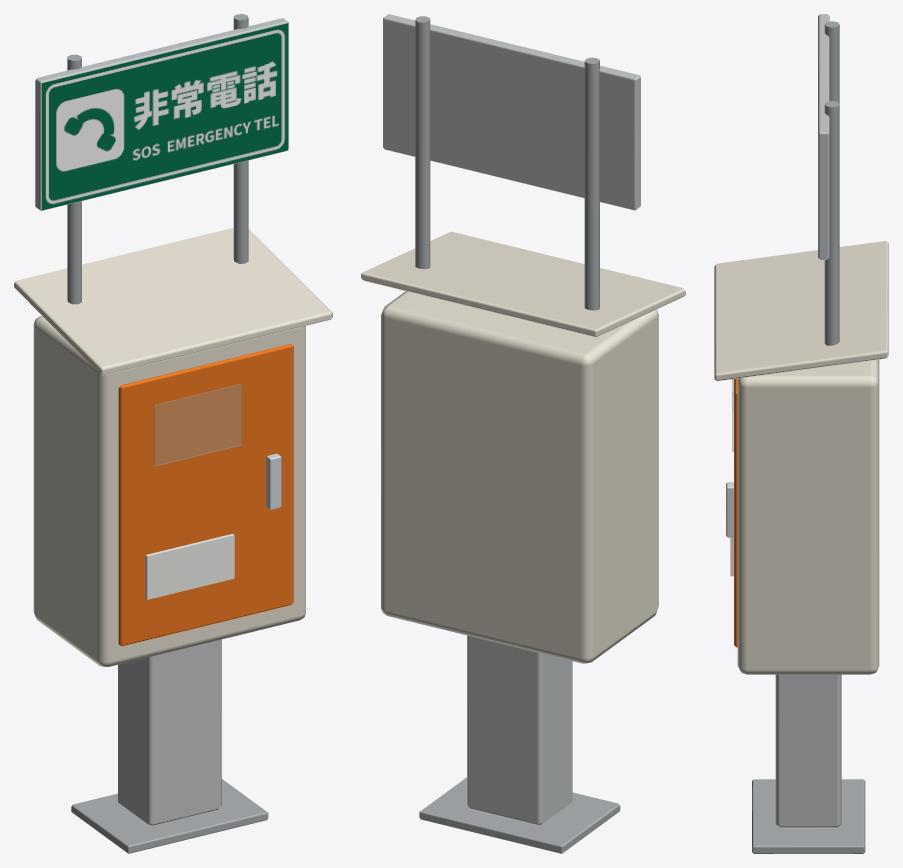
The model's file is emergency_phone_box.fbx.
3 renders of one model, left to right at view 1: azimuth 30°, elevation 25°; view 2: azimuth 150°, elevation 25°; view 3: azimuth 270°, elevation 25°, orthographic. The views are drawn at different scales.
Parts seen in each view (by area): view 1: emergency_phone_box; view 2: emergency_phone_box; view 3: emergency_phone_box.
Boxes of the visible parts, <box> form: emergency_phone_box: <box>14,14,332,853</box>; emergency_phone_box: <box>361,14,685,853</box>; emergency_phone_box: <box>714,14,888,853</box>.
Size of the model in its own units: 0.6 by 1.77 by 0.37.
Materials: 9 (1 with a texture image).
